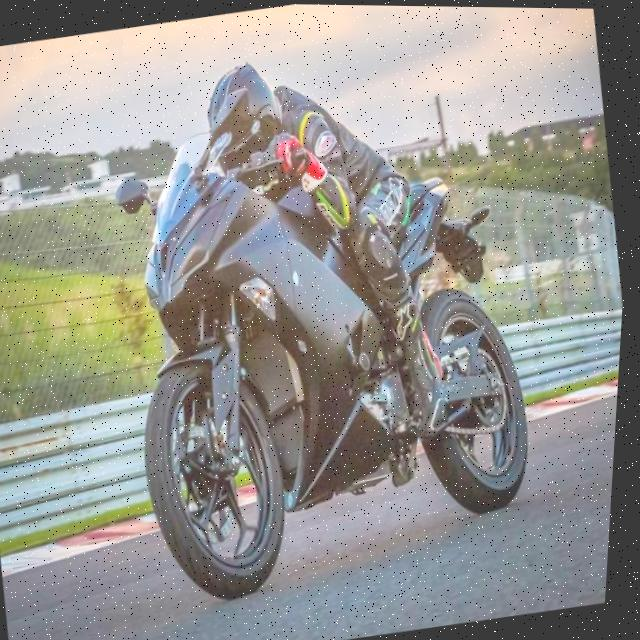motorcycle: (53, 9, 581, 621)
